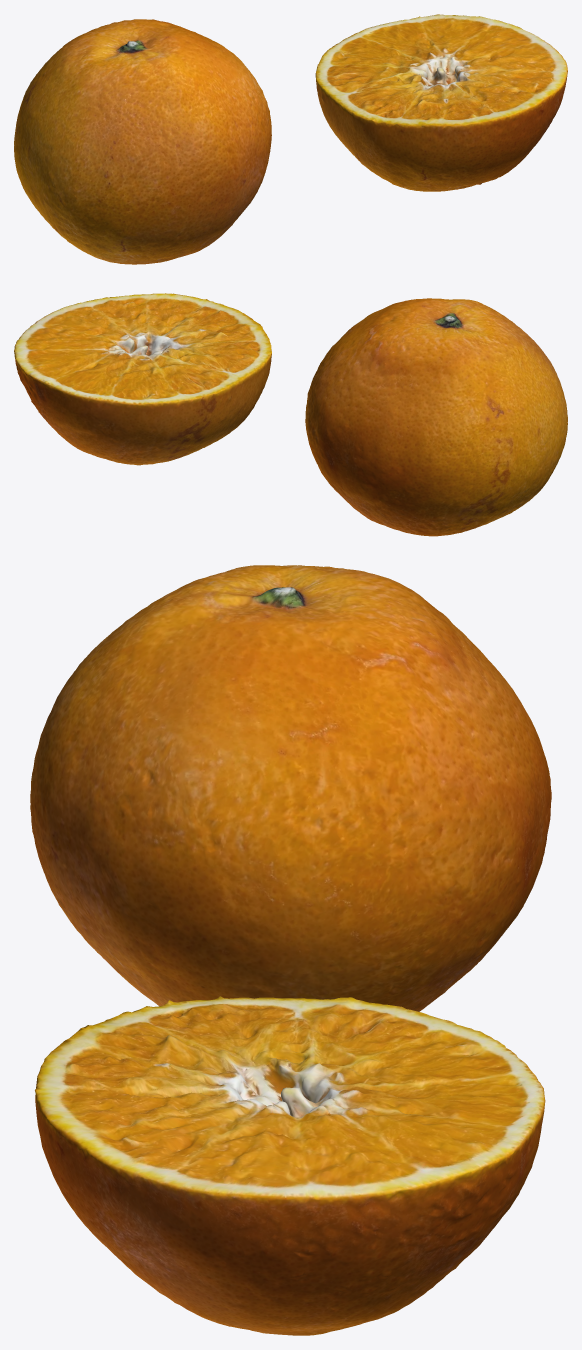
The model's file is orange_model.glb.
The picture shows the model from 3 angles, top to bottom: view 1: azimuth 30°, elevation 25°; view 2: azimuth 150°, elevation 25°; view 3: azimuth 270°, elevation 25°; orthographic projection. The views are drawn at different scales.
Visible parts, largest first — view 1: Orange, Orange_Half; view 2: Orange, Orange_Half; view 3: Orange, Orange_Half.
Boxes of the visible parts, bbox=[...] form: Orange: bbox=[14, 19, 271, 264]; Orange_Half: bbox=[315, 14, 567, 191]; Orange: bbox=[305, 298, 567, 536]; Orange_Half: bbox=[14, 293, 271, 465]; Orange: bbox=[30, 565, 551, 1011]; Orange_Half: bbox=[35, 996, 545, 1335].
Size of the model in its own units: 0.2086 by 0.0847 by 0.0924.
Materials: 2 (2 with a texture image).
